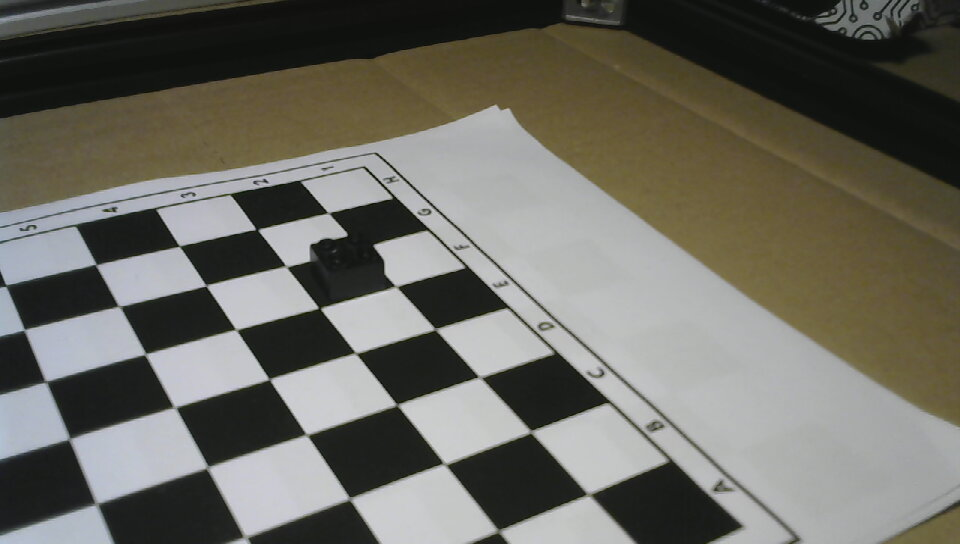bp: (301, 228, 387, 302)
